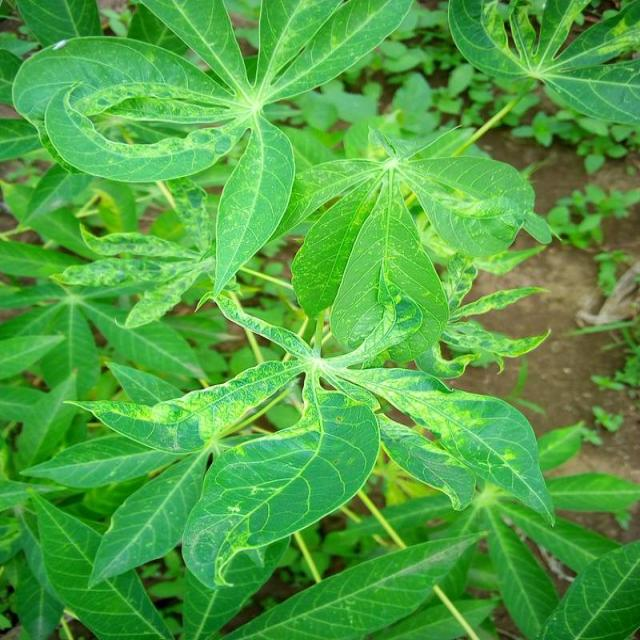cassava leaf: (11, 0, 416, 297), (271, 123, 542, 364), (180, 384, 380, 591)
